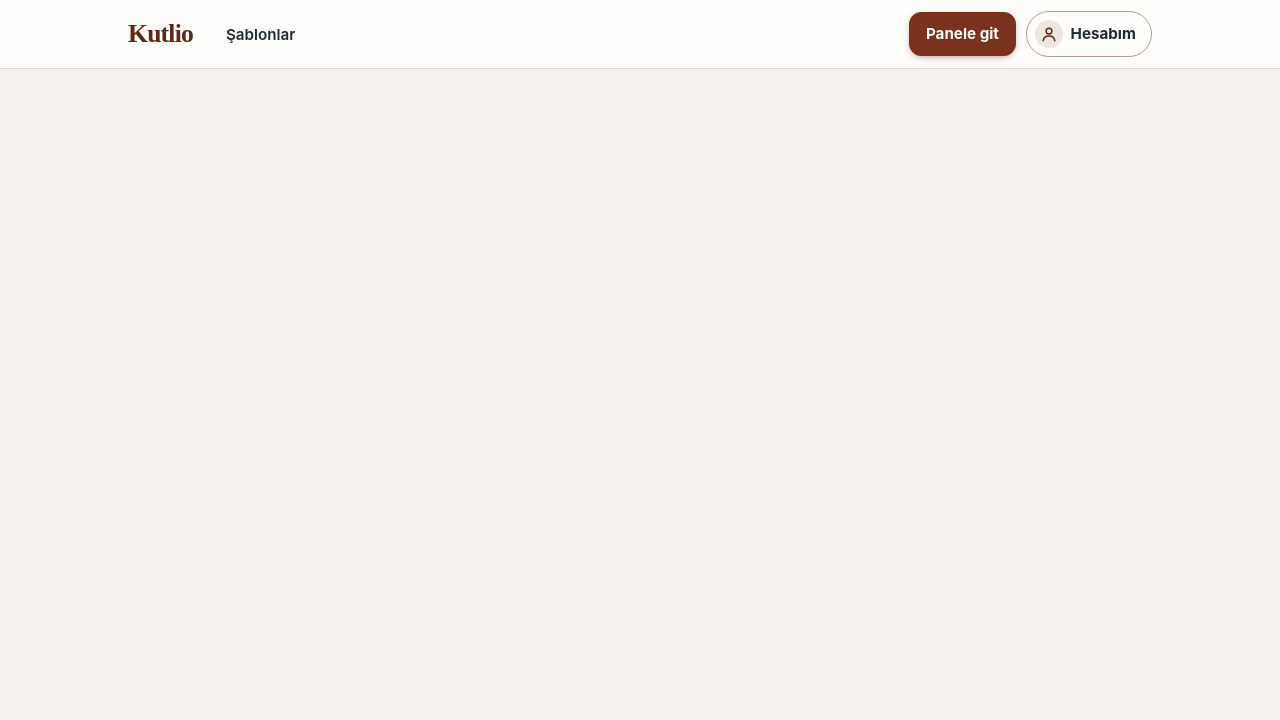
Test: SiteHeader › opens the shared preferences drawer from the account button and links to account settings for Creators
The image size is (1280, 720).
Click the button with aria-label "Hesabım, tema ve dil" at (1089, 34), box [1026, 11, 1152, 57]
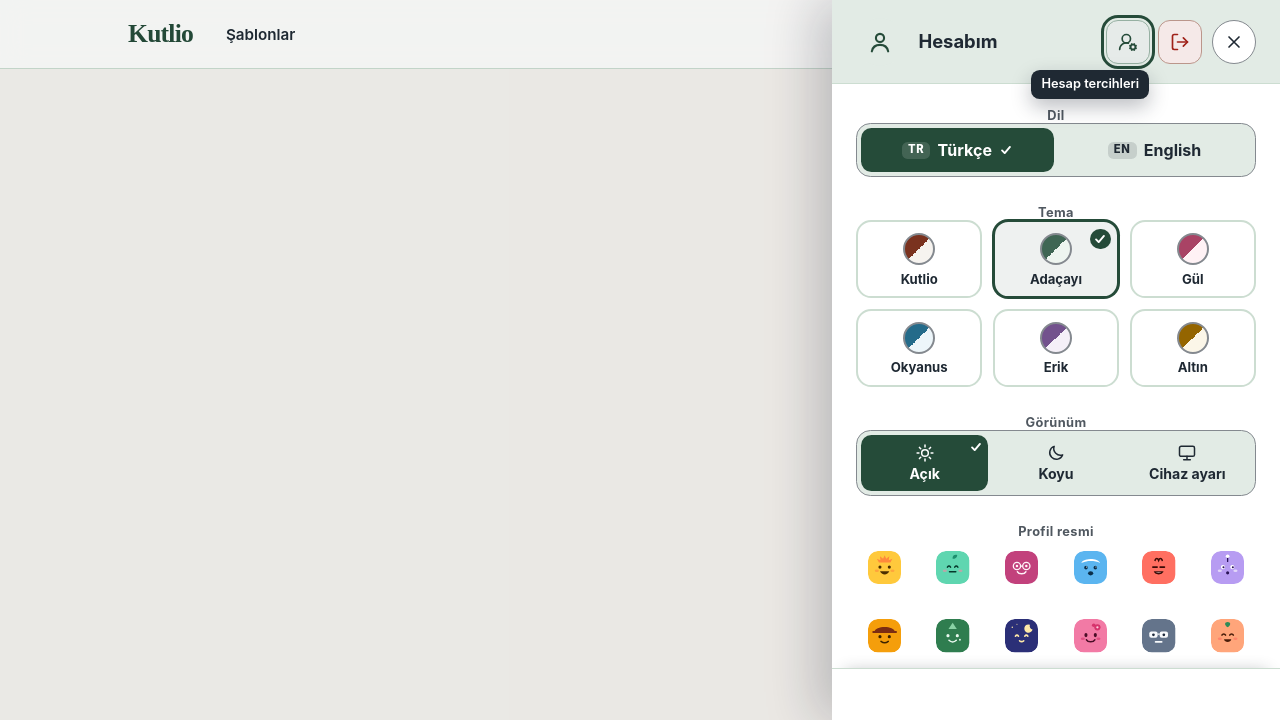
Result: the dialog is shown at [832, 0, 1279, 719]
Result: the text "Tema" is shown at [1038, 205, 1074, 220]
Result: the element "Dil" is shown at [856, 108, 1256, 177]
